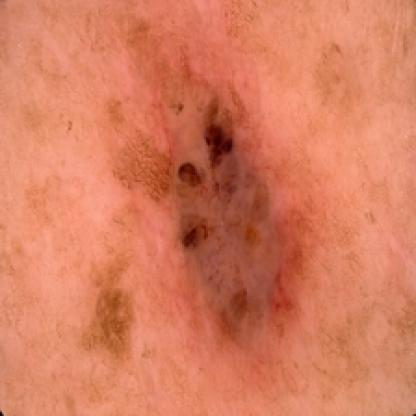malignant: (126, 65, 288, 312)
